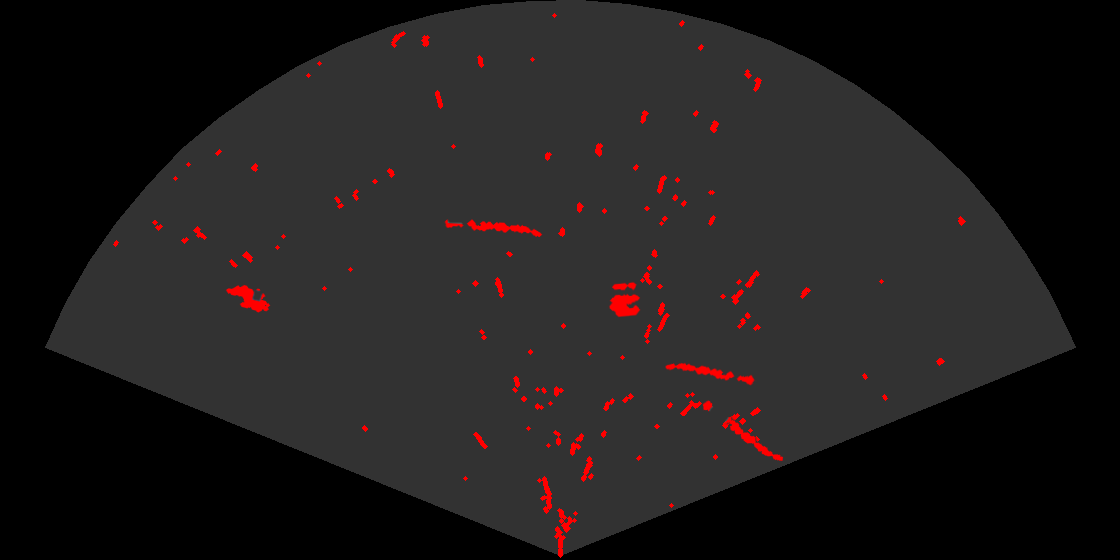AUV: (224, 283, 272, 314)
ball: (607, 280, 642, 319)
chain: (701, 399, 785, 463), (664, 361, 758, 387), (443, 218, 544, 239)
